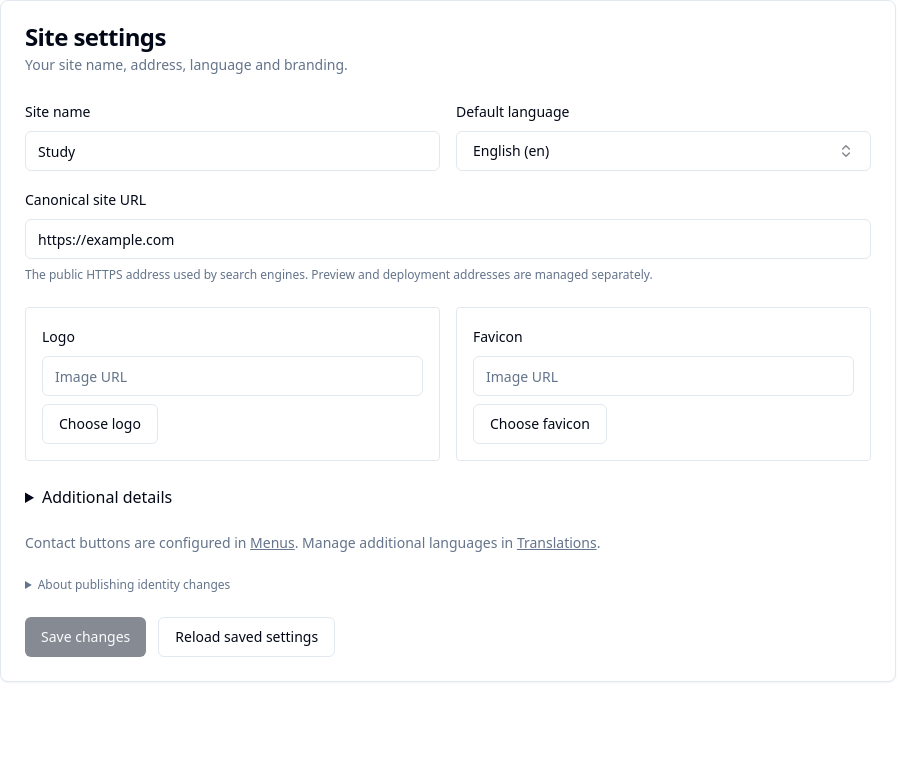
Scenario: unified site settings › reports partial completion and requires reconciliation before retrying
Replace the text in the field labelled "Site name" with "Changed" at (232, 151), box top-left (25, 131), bottom-right (440, 171)
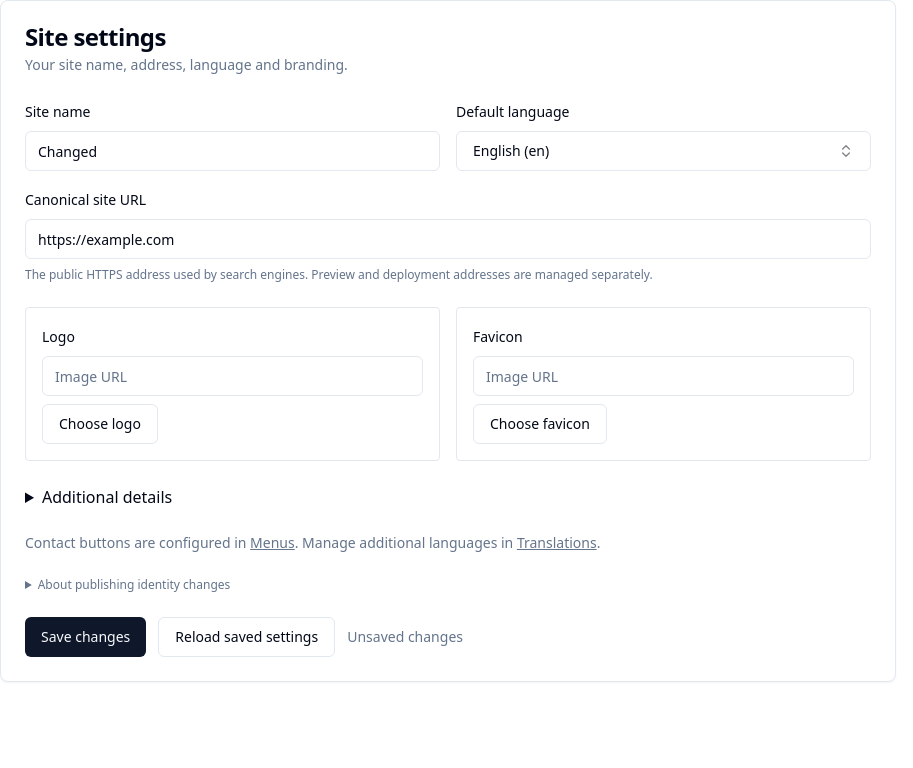
Click the button "Save changes" at (86, 637), box top-left (25, 617), bottom-right (146, 657)
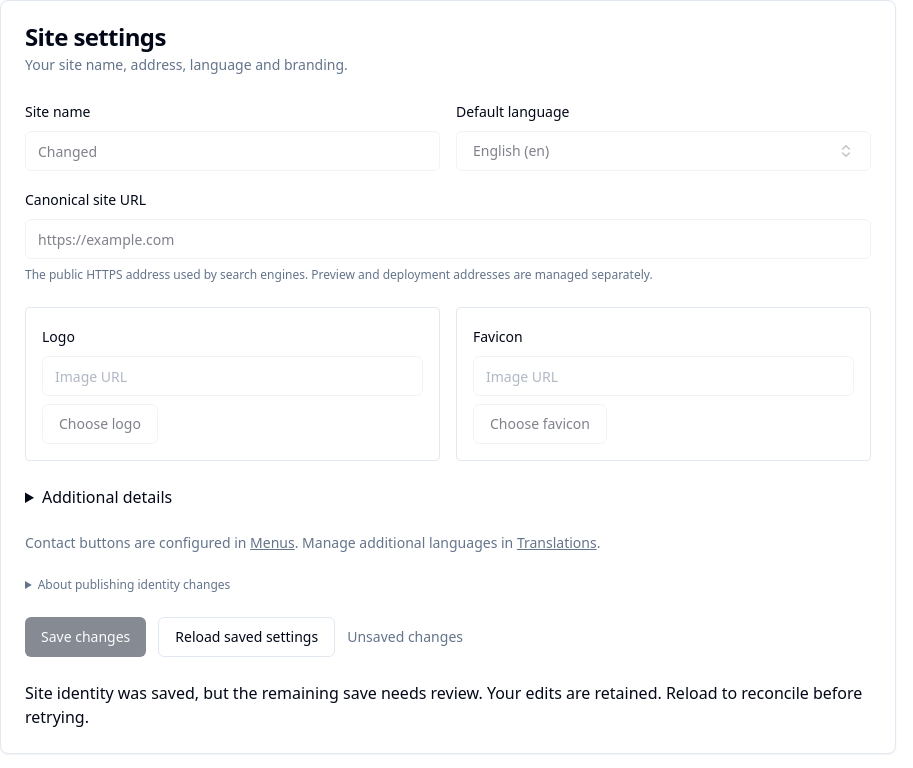
Expected: the text "Site identity was saved, but" is shown, top-left (25, 682), bottom-right (862, 728)
Expected: the button "Save changes" is disabled, top-left (25, 617), bottom-right (146, 657)
